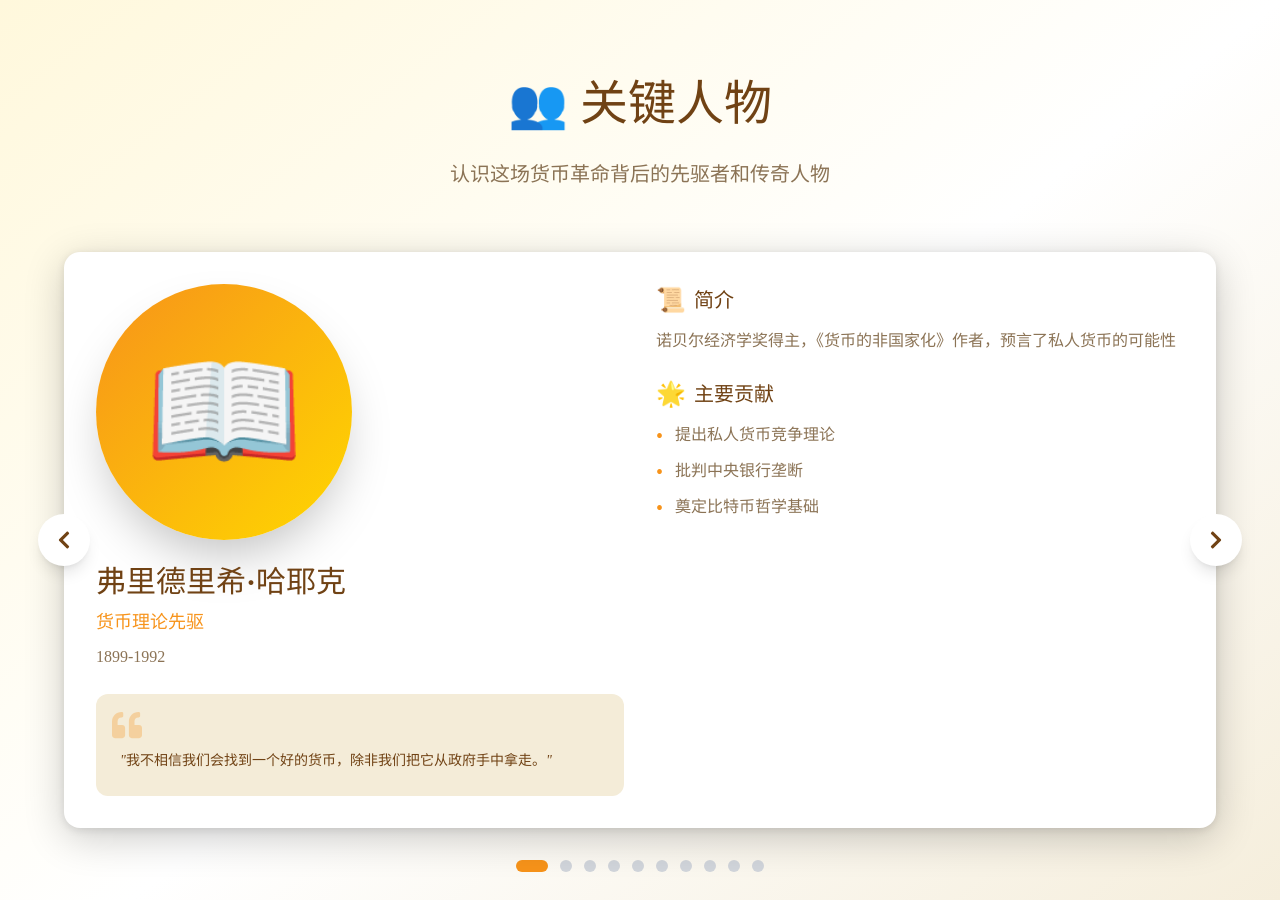
Test: FiguresGallery › displays correct emoji for satoshi figure
Click the tab named "中本聪": (590, 866) [584,860,596,872]
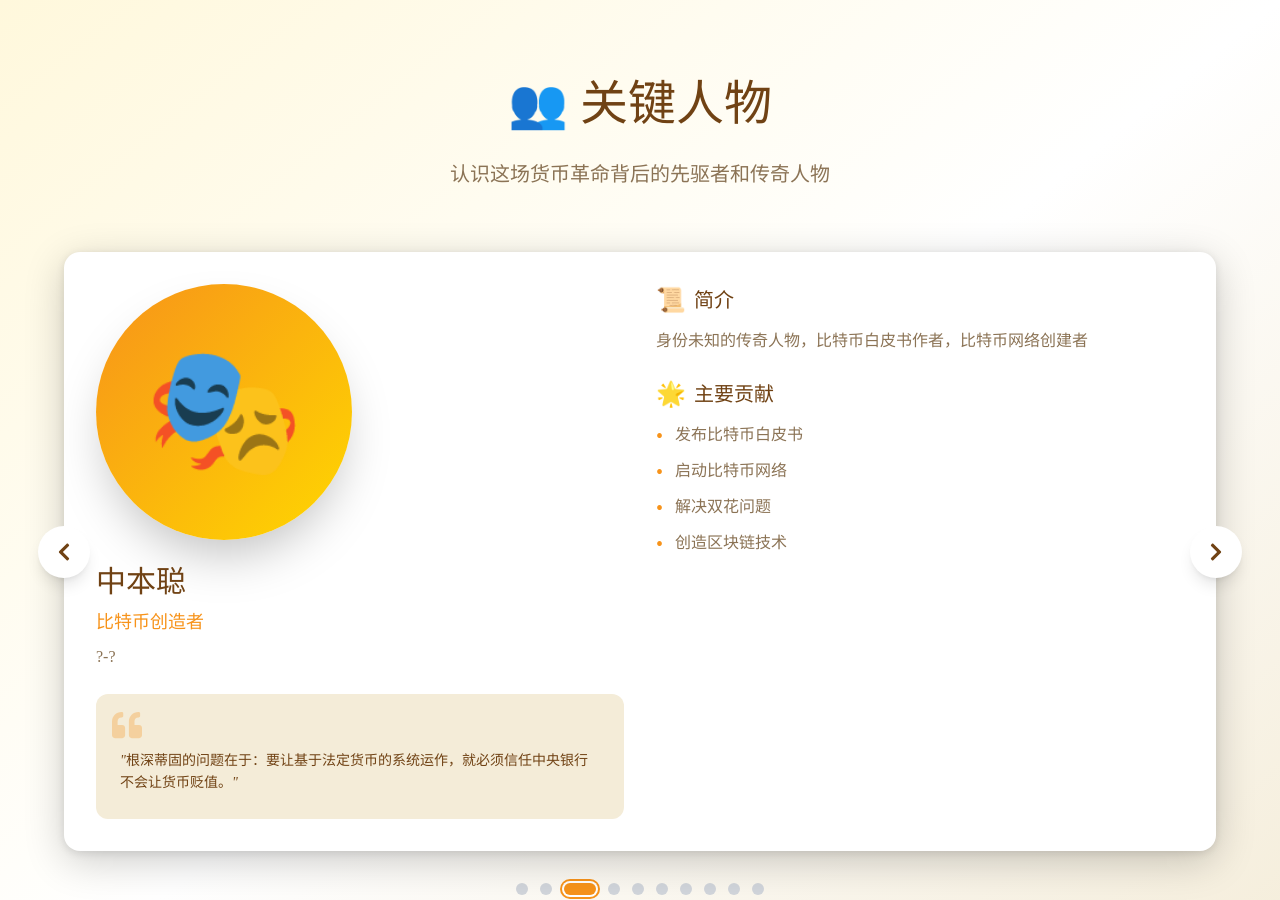
Now the text "🎭" is shown, box [96,284,352,540]
